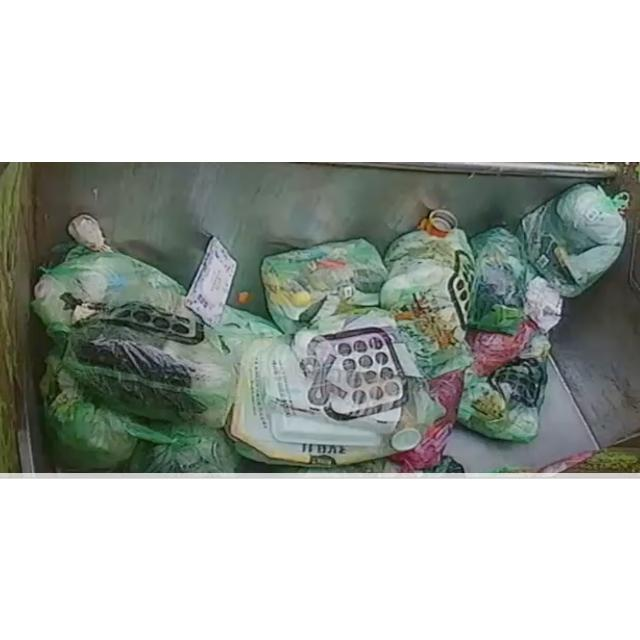general_trashbag: (226, 310, 442, 464), (64, 301, 255, 427), (380, 225, 474, 377), (32, 244, 186, 332), (520, 182, 629, 295), (261, 237, 388, 333), (41, 347, 136, 470), (458, 332, 550, 441), (116, 413, 241, 472), (469, 226, 528, 334)
